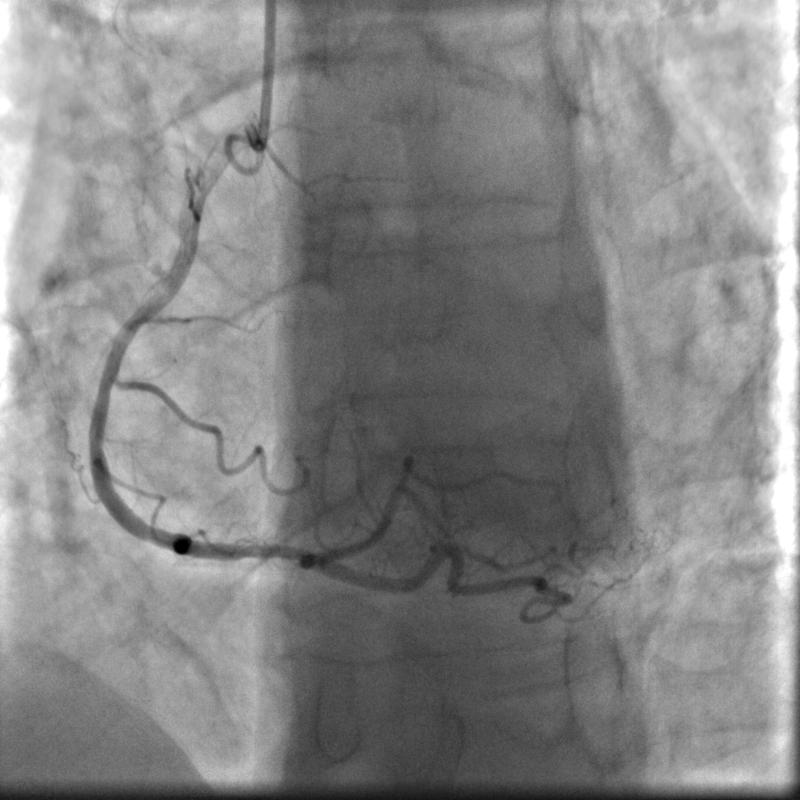Stenosis: (220, 530, 299, 571)
